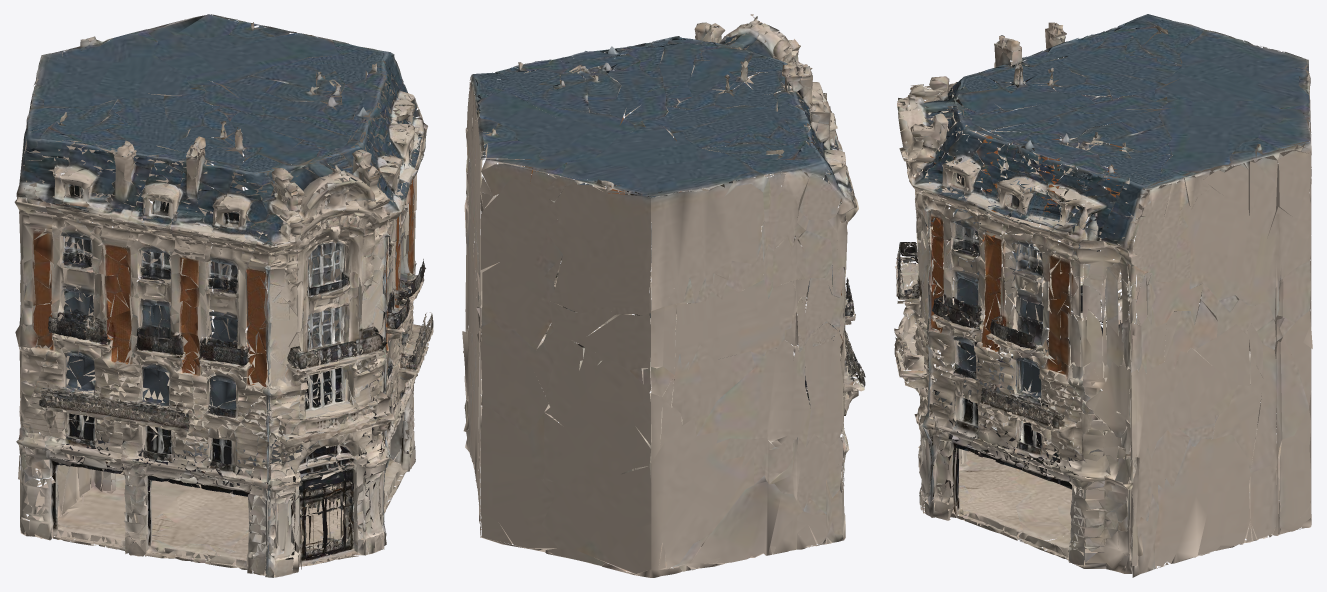
The model's file is riverdale-corner.glb.
3 views of the same model, side by side, from view 1: azimuth 30°, elevation 25°; view 2: azimuth 150°, elevation 25°; view 3: azimuth 270°, elevation 25° (orthographic).
Parts seen in each view (by area): view 1: Building; view 2: Building; view 3: Building.
Part boxes in pixels (x1,y1,x2,y2): Building: (14, 14, 433, 577); Building: (462, 14, 865, 577); Building: (894, 14, 1312, 577).
Size of the model in its own units: 20.46 by 20.18 by 18.62.
1 material, 1 textured.
